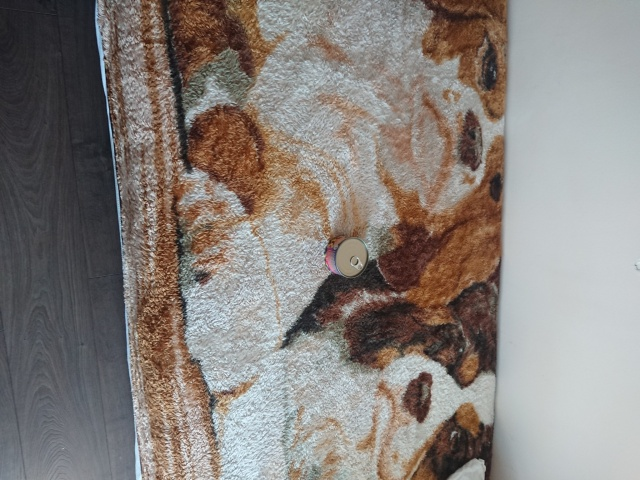Giana Tuna Salad Mexico 185g: (322, 234, 370, 280)
